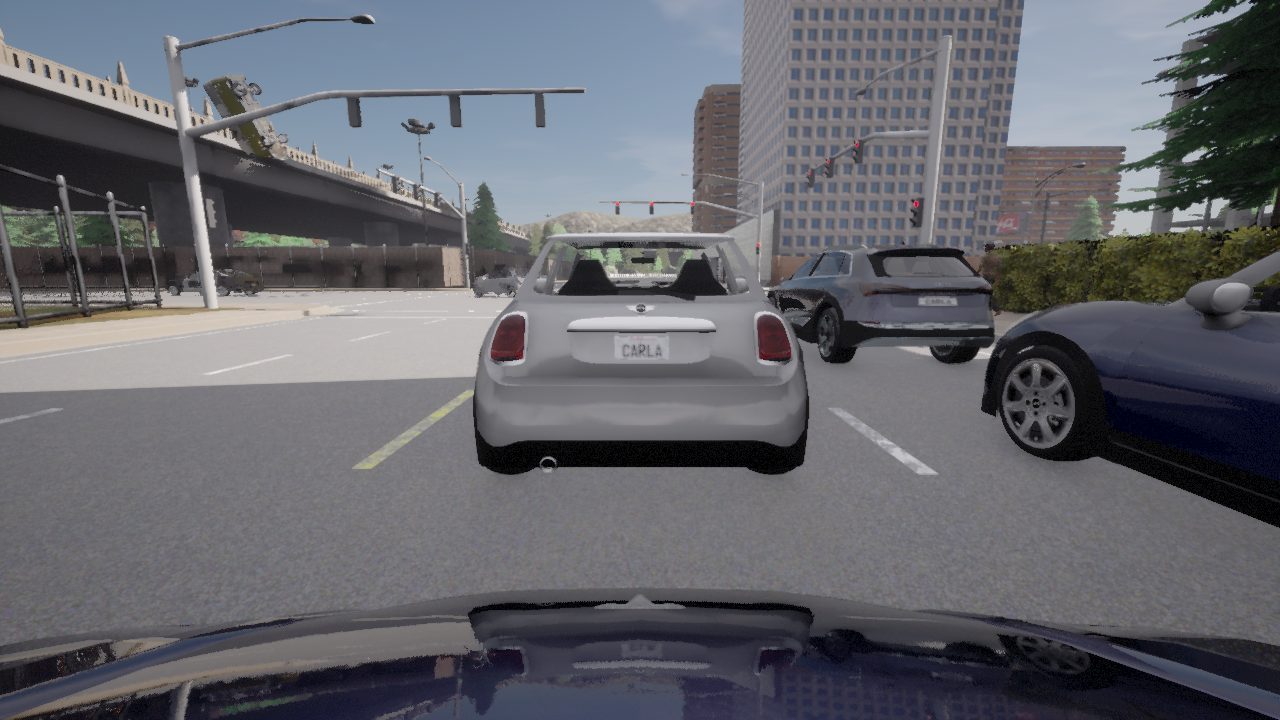cyclist: (0, 588, 1279, 719), (981, 250, 1279, 528), (473, 232, 809, 474), (767, 240, 993, 363), (202, 73, 289, 161), (164, 267, 262, 295), (472, 268, 528, 296)
pedestrian: (976, 242, 1001, 316)
